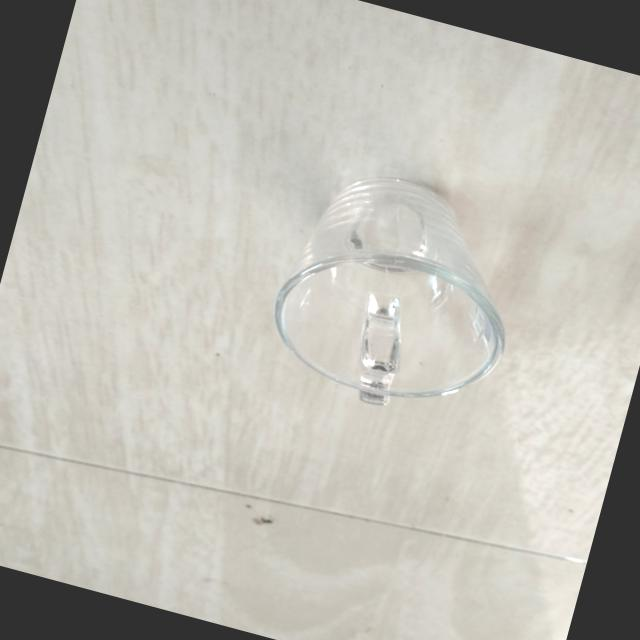glass-VX4N: (254, 151, 544, 435)
